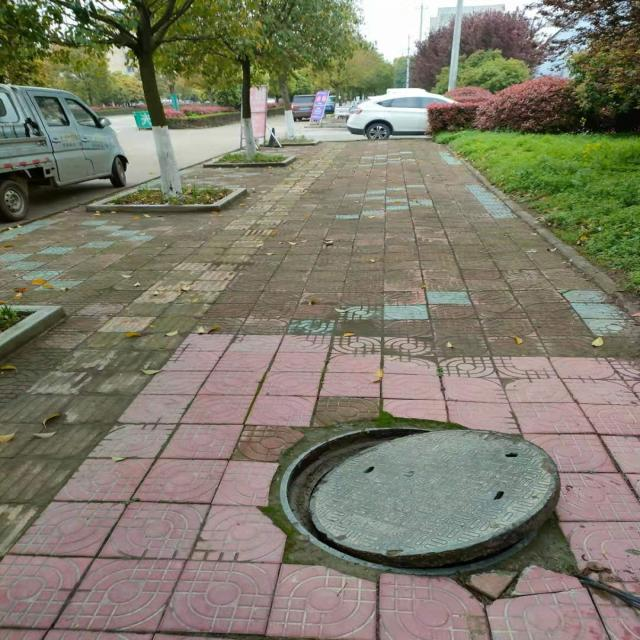Lose: (278, 426, 563, 577)
